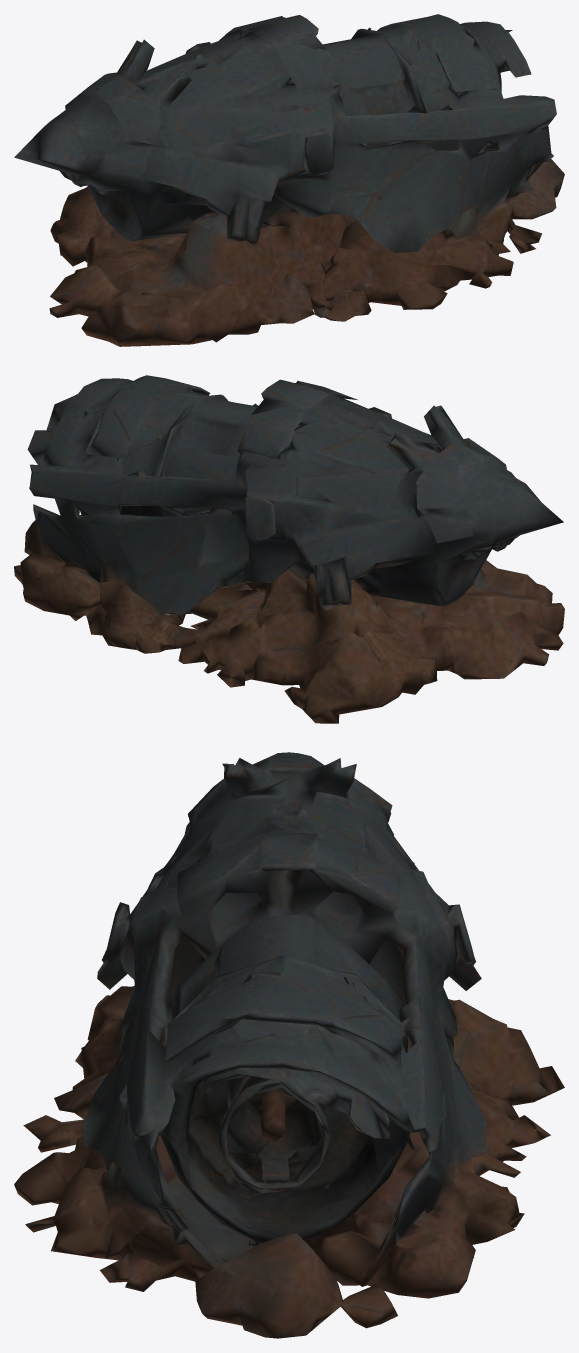
File: p_ship_wreck.glb
3 renders of one model, top to bottom at view 1: azimuth 30°, elevation 25°; view 2: azimuth 150°, elevation 25°; view 3: azimuth 270°, elevation 25°, orthographic. The views are drawn at different scales.
Bounding box in the file's own units: 1.89 × 0.7932 × 1.19.
1 material, 1 textured.
